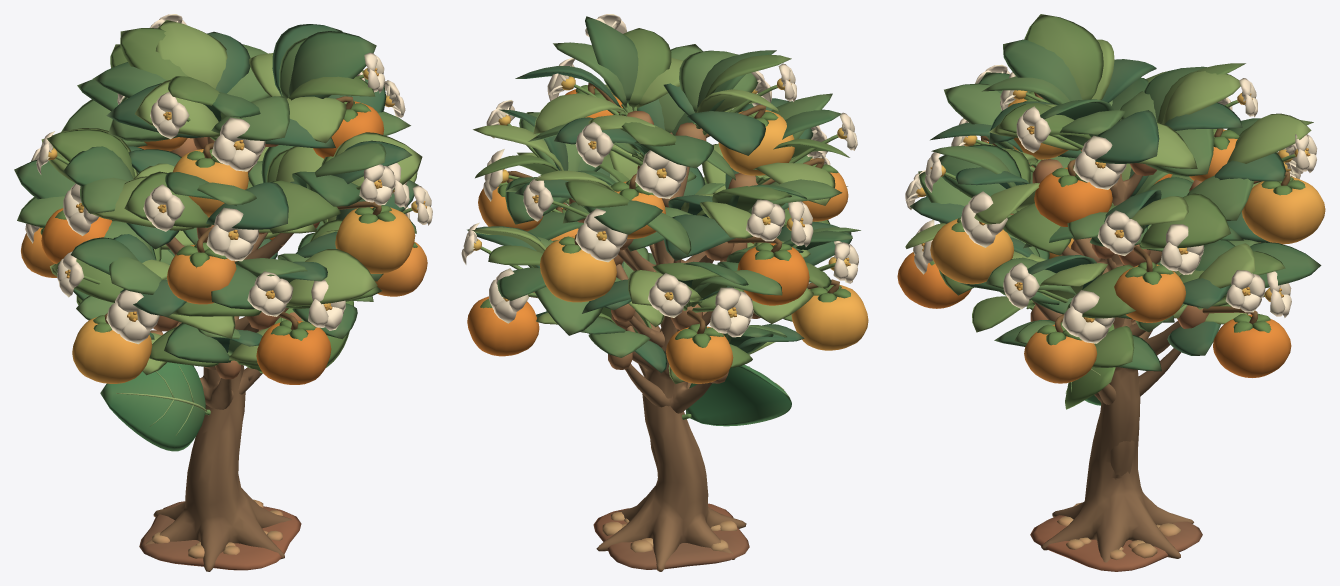
File: tree-v2-geometry.glb
3 renders of one model, left to right at view 1: azimuth 30°, elevation 25°; view 2: azimuth 150°, elevation 25°; view 3: azimuth 270°, elevation 25°, orthographic. The views are drawn at different scales.
Parts seen in each view (by area): view 1: stage-2-leaf-sprays, stage-3-fruit, stage-2-blossoms, stage-1-leaf-sprays, stage-2-trunk-roots-branches, sprout-leaf-left-blade, stage-0-soil, stage-1-trunk-roots-branches, stage-2-attachment-sockets, sprout-leaf-right-blade; view 2: stage-2-leaf-sprays, stage-3-fruit, stage-2-blossoms, stage-2-trunk-roots-branches, stage-1-leaf-sprays, sprout-leaf-left-blade, stage-0-soil, stage-1-trunk-roots-branches, stage-2-attachment-sockets, stage-1-attachment-sockets; view 3: stage-2-leaf-sprays, stage-3-fruit, stage-2-blossoms, stage-2-trunk-roots-branches, stage-1-leaf-sprays, stage-0-soil, stage-1-trunk-roots-branches, stage-2-attachment-sockets, sprout-leaf-right-blade.
Part boxes in pixels (box(x1,y1,x2,y2)): stage-2-leaf-sprays: box(14, 20, 422, 338); stage-3-fruit: box(21, 96, 427, 384); stage-2-blossoms: box(25, 14, 432, 344); stage-1-leaf-sprays: box(73, 145, 373, 375); stage-2-trunk-roots-branches: box(145, 146, 293, 571); sprout-leaf-left-blade: box(100, 362, 210, 451); stage-0-soil: box(139, 499, 301, 570); stage-1-trunk-roots-branches: box(199, 316, 262, 409); stage-2-attachment-sockets: box(153, 137, 319, 331); sprout-leaf-right-blade: box(246, 300, 353, 373); stage-2-leaf-sprays: box(467, 16, 860, 335); stage-3-fruit: box(467, 83, 868, 383); stage-2-blossoms: box(461, 14, 858, 337); stage-2-trunk-roots-branches: box(596, 132, 746, 571); stage-1-leaf-sprays: box(536, 144, 811, 384); sprout-leaf-left-blade: box(682, 364, 791, 426); stage-0-soil: box(593, 503, 749, 569); stage-1-trunk-roots-branches: box(625, 244, 712, 475); stage-2-attachment-sockets: box(569, 110, 760, 330); stage-1-attachment-sockets: box(608, 304, 729, 383); stage-2-leaf-sprays: box(905, 14, 1321, 332); stage-3-fruit: box(897, 91, 1325, 383); stage-2-blossoms: box(905, 64, 1317, 343); stage-2-trunk-roots-branches: box(1032, 173, 1193, 570); stage-1-leaf-sprays: box(972, 163, 1260, 371); stage-0-soil: box(1030, 502, 1202, 571); stage-1-trunk-roots-branches: box(1094, 258, 1180, 479); stage-2-attachment-sockets: box(1032, 150, 1208, 328); sprout-leaf-right-blade: box(1065, 324, 1115, 409).
Size of the model in its own units: 2.9 by 3.85 by 3.05.
